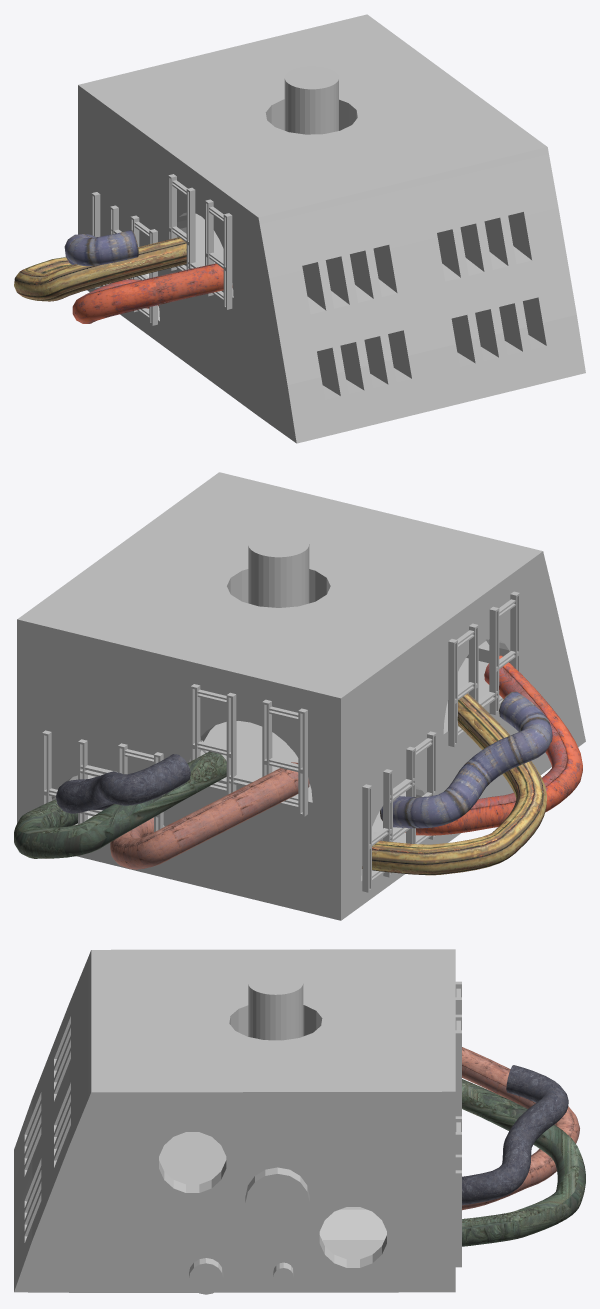
File: PoolroomsFINAL7.fbx
The picture shows the model from 3 angles, top to bottom: view 1: azimuth 30°, elevation 25°; view 2: azimuth 150°, elevation 25°; view 3: azimuth 270°, elevation 25°; orthographic projection. The views are drawn at different scales.
Visible parts, largest first — view 1: Cylinder.001, Cylinder.006, BézierCurve.011, BézierCurve.009, BézierCurve.010; view 2: Cylinder.001, Cylinder.006, BézierCurve.011, BézierCurve.007, BézierCurve.010, BézierCurve.008, BézierCurve.009, BézierCurve.006; view 3: Cylinder.001, BézierCurve.007, BézierCurve.006, BézierCurve.008, Cube.040, Cylinder.006.
Boxes of the visible parts, x1,y1,x2,y2 form: Cylinder.001: (78,14,585,443); Cylinder.006: (91,174,232,325); BézierCurve.011: (14,237,186,301); BézierCurve.009: (72,263,232,323); BézierCurve.010: (64,230,138,265); Cylinder.001: (17,472,585,920); Cylinder.006: (42,591,519,892); BézierCurve.011: (362,693,546,875); BézierCurve.007: (14,751,226,858); BézierCurve.010: (380,691,552,828); BézierCurve.008: (110,762,309,869); BézierCurve.009: (405,655,582,835); BézierCurve.006: (56,754,190,813); Cylinder.001: (14,949,455,1294); BézierCurve.007: (462,1079,585,1246); BézierCurve.006: (462,1065,568,1205); BézierCurve.008: (462,1047,579,1210); Cube.040: (319,1217,386,1259); Cylinder.006: (455,981,461,1267).
Size of the model in its own units: 148 by 80.53 by 175.
